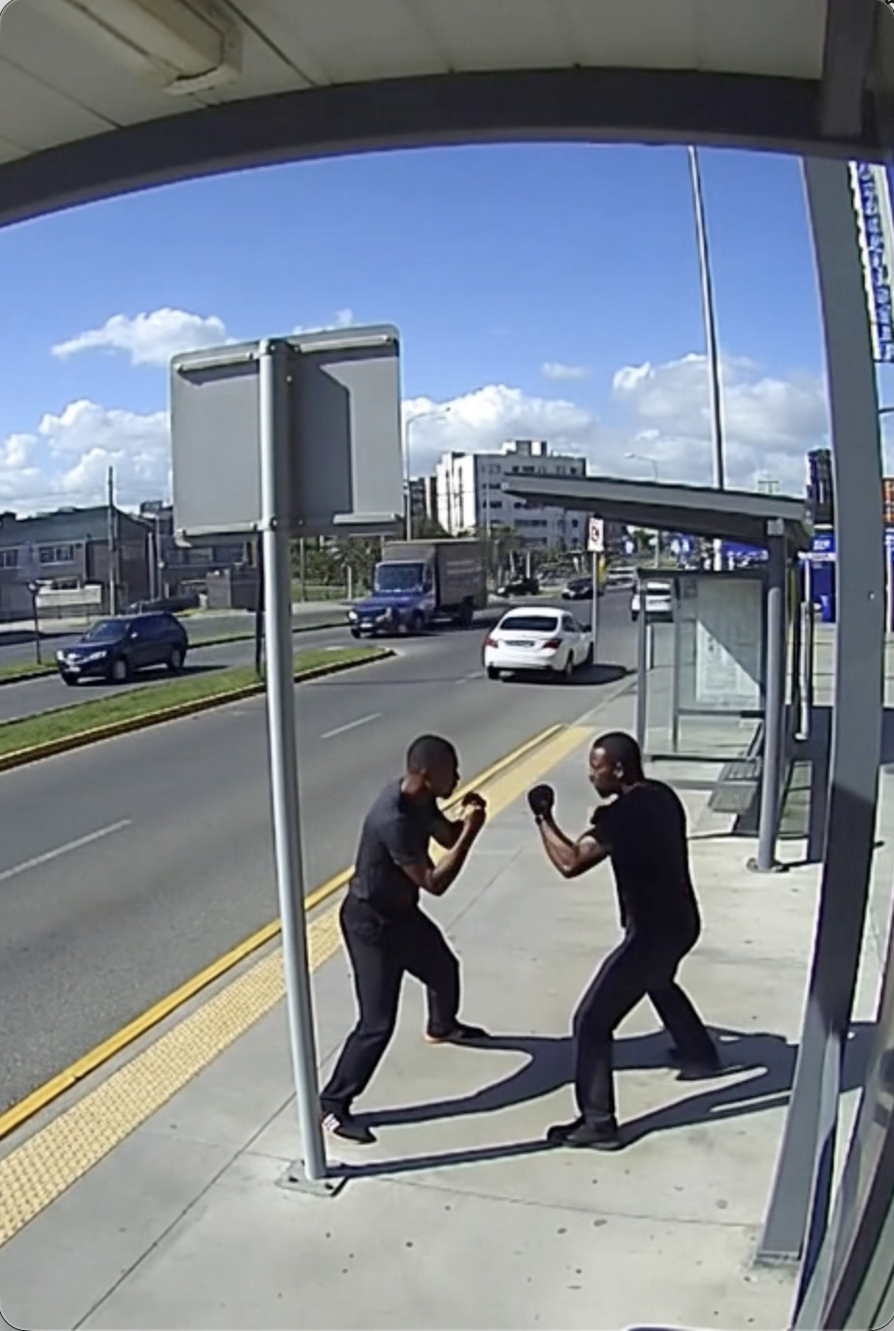Assault: (316, 733, 492, 1147)
Fighting: (528, 731, 722, 1149)
